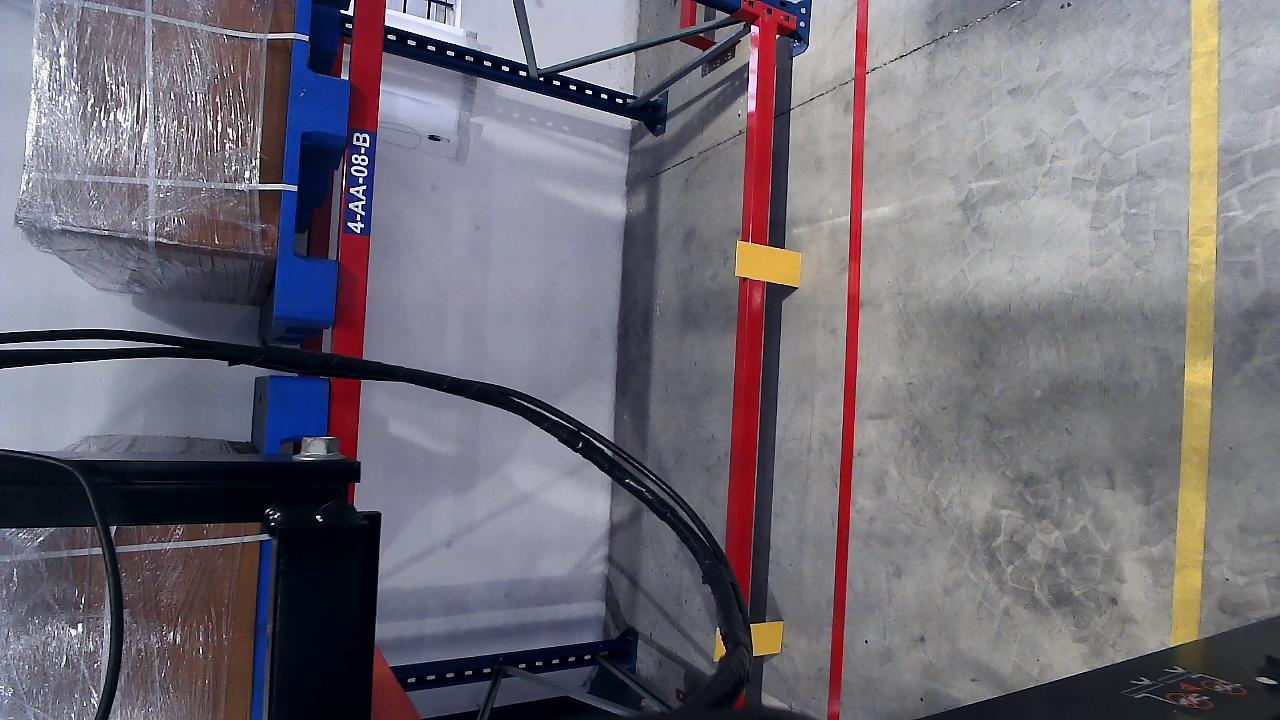h_rack: (724, 26, 775, 719), (331, 2, 389, 441)
orange_strip: (735, 241, 801, 287), (751, 621, 784, 654)
red_line: (832, 11, 868, 720)
small_pallet: (268, 0, 343, 325)
yellow_line: (1173, 0, 1221, 651)
